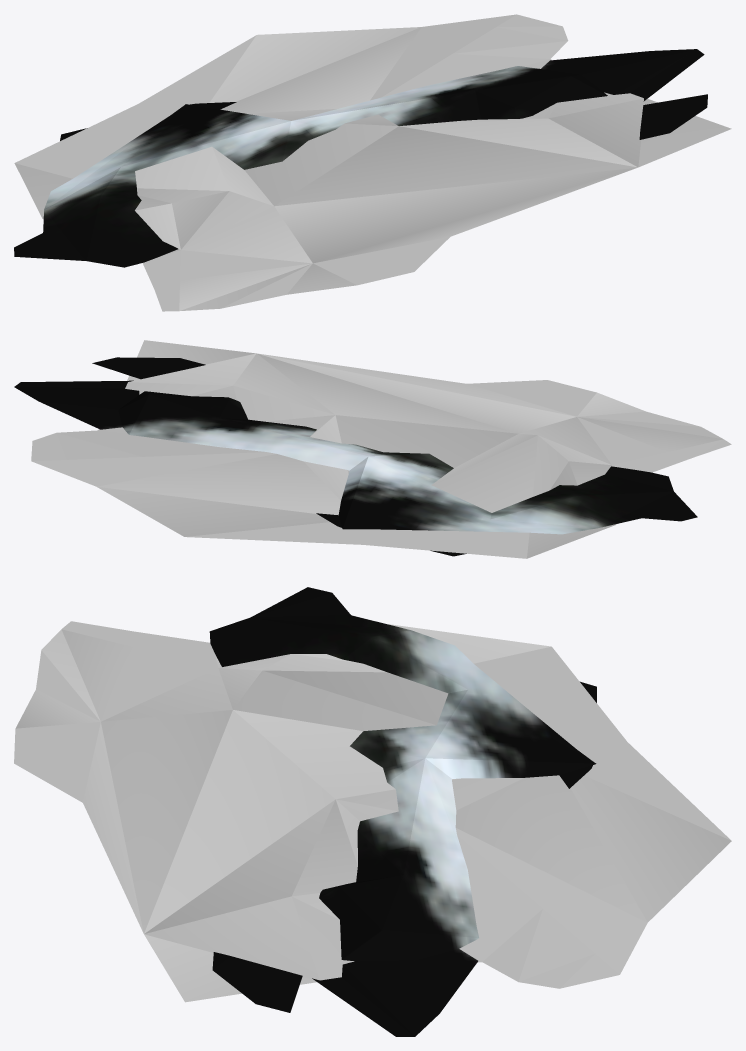
File: fx_mod_movecloud_01.FBX
The picture shows the model from 3 angles, top to bottom: view 1: azimuth 30°, elevation 25°; view 2: azimuth 150°, elevation 25°; view 3: azimuth 270°, elevation 25°; orthographic projection. The views are drawn at different scales.
Parts seen in each view (by area): view 1: fx_mod_movecloud_01 (×2); view 2: fx_mod_movecloud_01 (×2); view 3: fx_mod_movecloud_01 (×2).
Part boxes in pixels (x1,y1,x2,y2): fx_mod_movecloud_01 (×2): [14, 14, 731, 311]; fx_mod_movecloud_01 (×2): [14, 340, 731, 558]; fx_mod_movecloud_01 (×2): [14, 587, 731, 1036].
Size of the model in its own units: 391 by 15.8 by 264.
